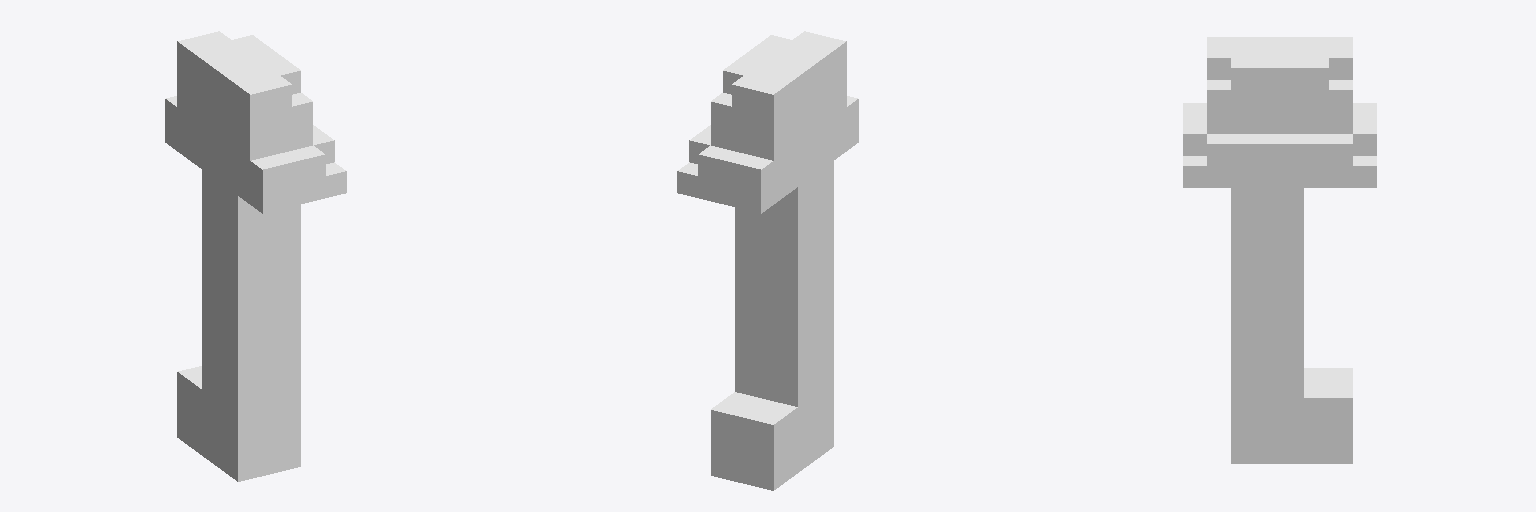
The model's file is LEftHand.obj.
3 renders of one model, left to right at view 1: azimuth 30°, elevation 25°; view 2: azimuth 150°, elevation 25°; view 3: azimuth 270°, elevation 25°, orthographic.
Visible parts, largest first — view 1: object 1; view 2: object 1; view 3: object 1.
Boxes of the visible parts, x1,y1,x2,y2 form: object 1: [165, 31, 346, 481]; object 1: [677, 31, 858, 490]; object 1: [1183, 37, 1376, 463].
Size of the model in its own units: 0.4 by 1.8 by 0.8.